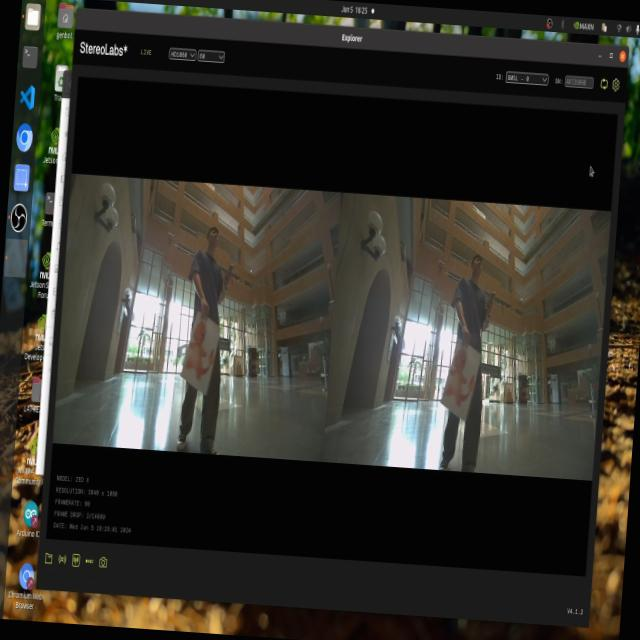red: (178, 316, 222, 396), (446, 344, 476, 420)
